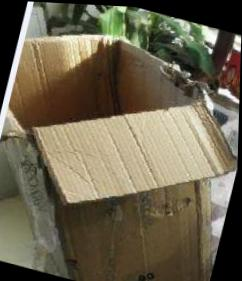cardboard: (0, 1, 241, 280)
